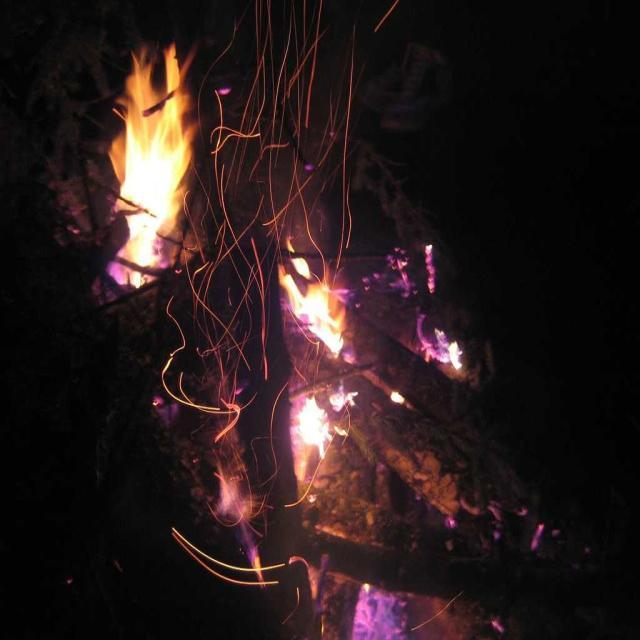Fire: (112, 45, 206, 270), (276, 236, 372, 356), (276, 392, 348, 470)
